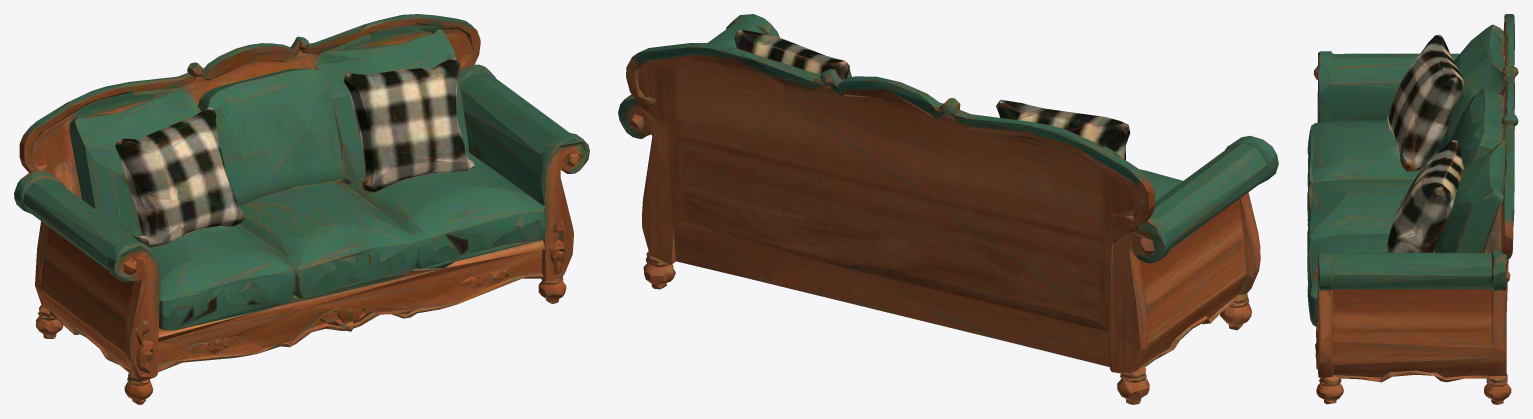
Rendered from sofa.glb.
The picture shows the model from 3 angles, left to right: view 1: azimuth 30°, elevation 25°; view 2: azimuth 150°, elevation 25°; view 3: azimuth 270°, elevation 25°; orthographic projection. The views are drawn at different scales.
Size of the model in its own units: 1.9 by 0.8951 by 0.7777.
1 material, 1 textured.
